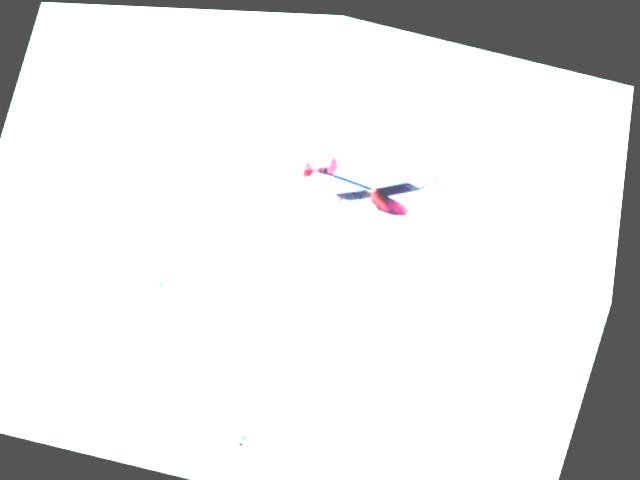uav: (282, 127, 458, 238)
